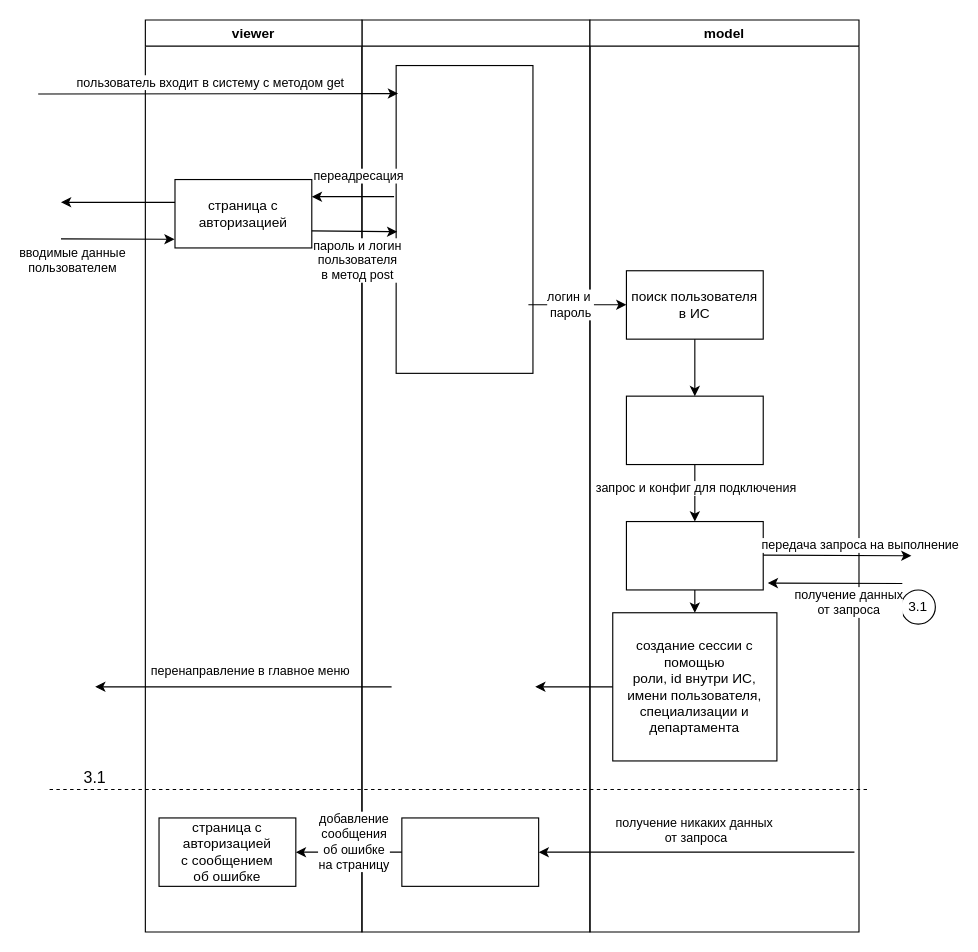
This 978x952 diagram has some shape labels left out. Here are the shapes that lost their labels. From the top down, the box of each, then its label:
(625, 395, 763, 465): вставка данных в запрос с помощью provider
(361, 19, 590, 932): controller
(625, 520, 763, 590): попытка подлючения к БД
